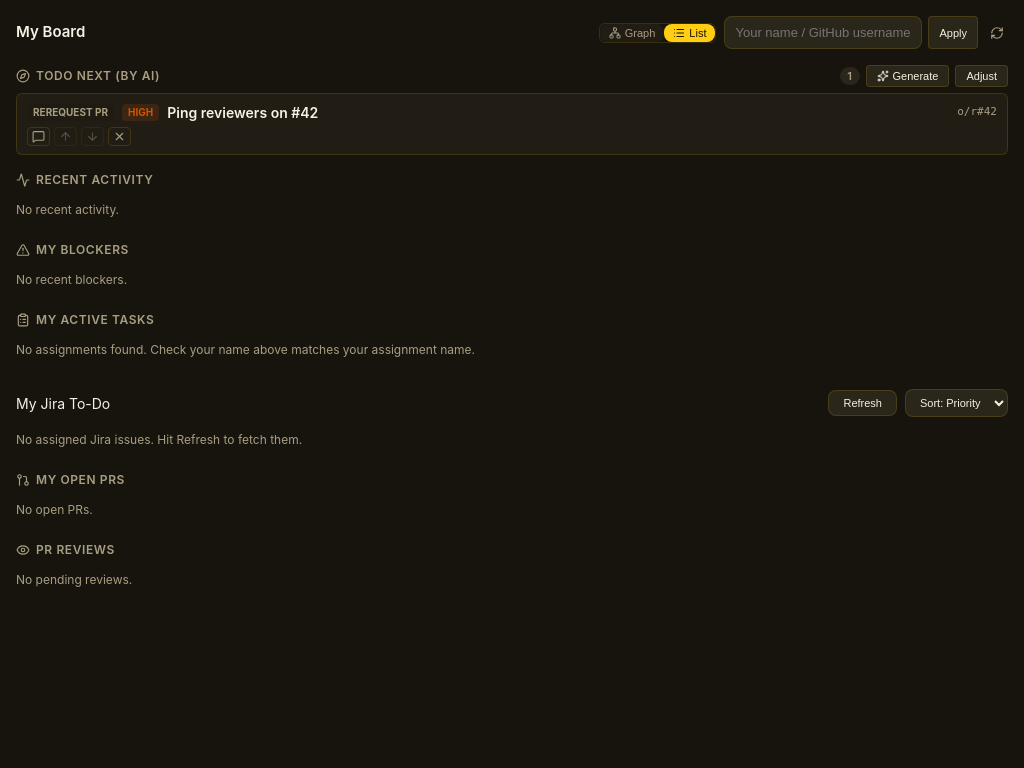
Test: MyBoardPage — TODO NEXT (BY AI) › Adjust applies a comment and revises the list
Expected: the text "Ping reviewers on #42" is shown, x1=167 y1=104 x2=318 y2=121
Click the button "Adjust" at (982, 76), box x1=955 y1=65 x2=1008 y2=87
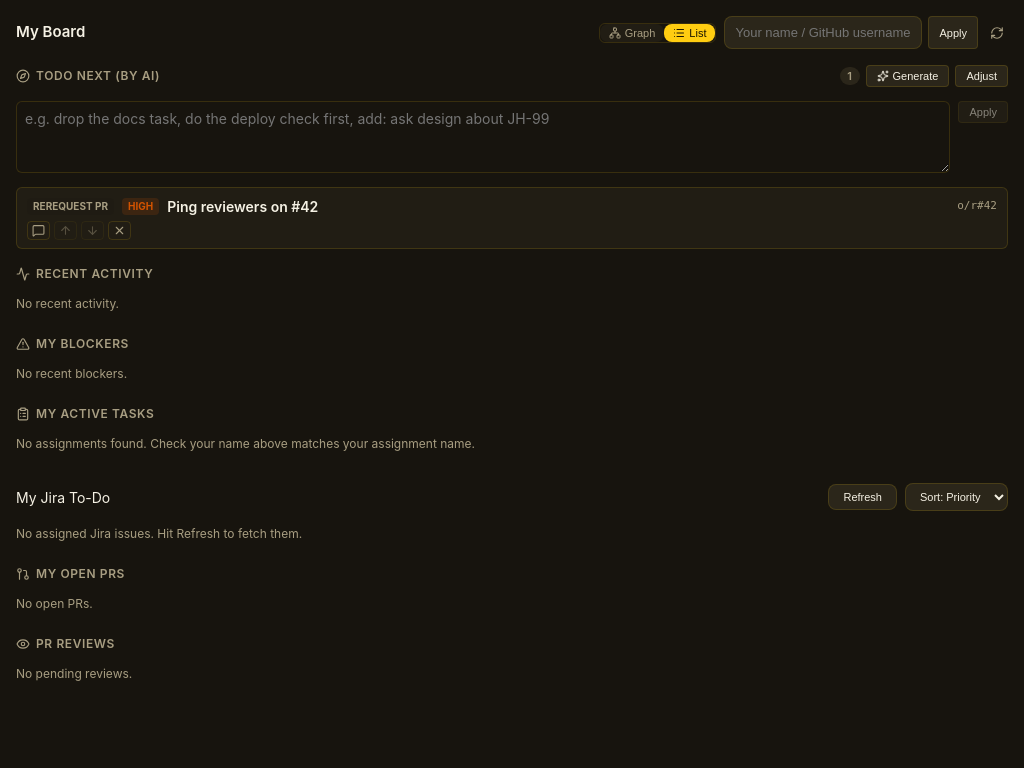
Replace the text in the text box with placeholder "drop the docs task" with "do the deploy check first" at (483, 137), box x1=16 y1=101 x2=950 y2=173
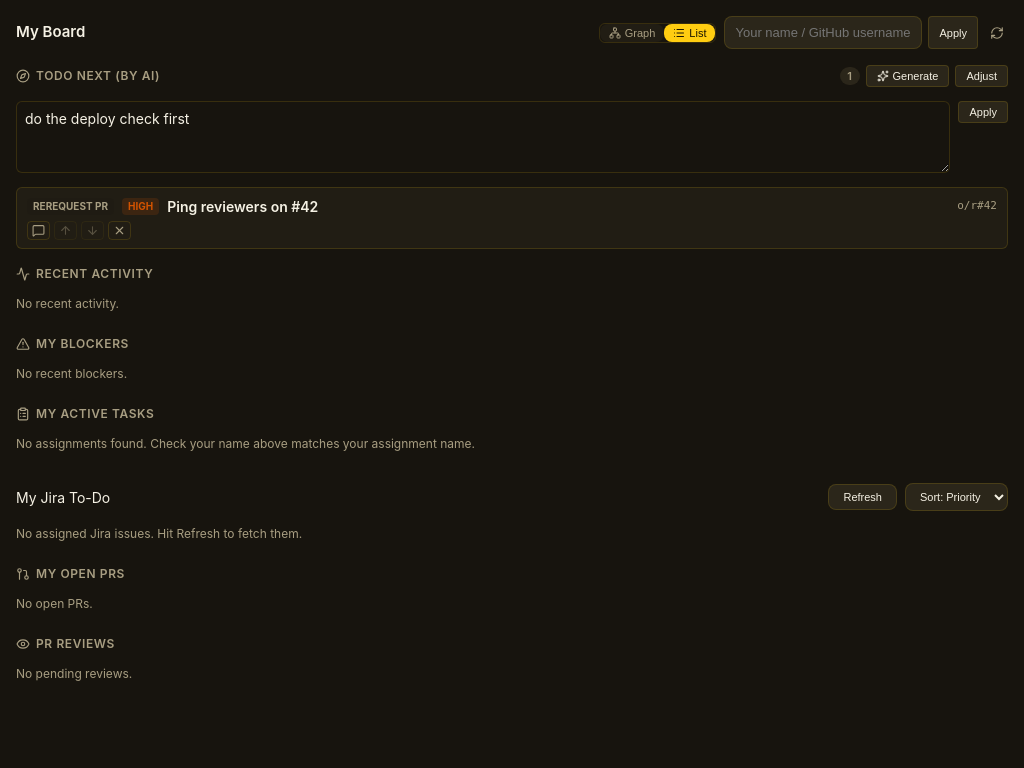
Click the button with aria-label "Apply adjustment" at (983, 112), box x1=958 y1=101 x2=1008 y2=123
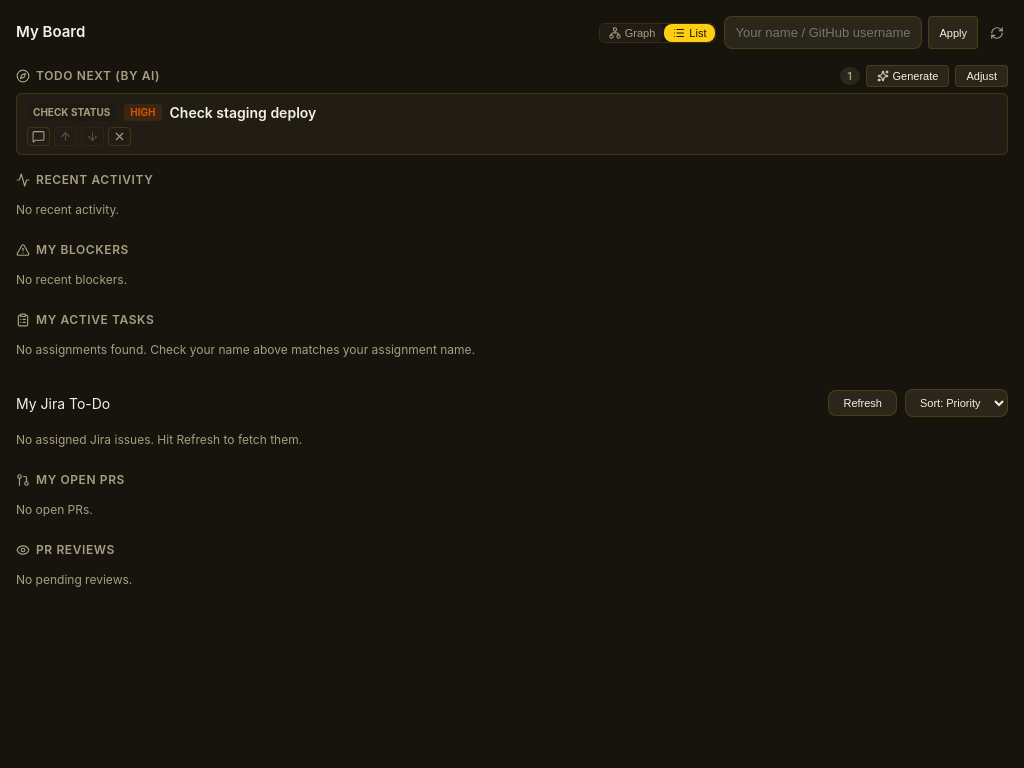
Expected: the text "Check staging deploy" is shown, x1=170 y1=104 x2=316 y2=121
